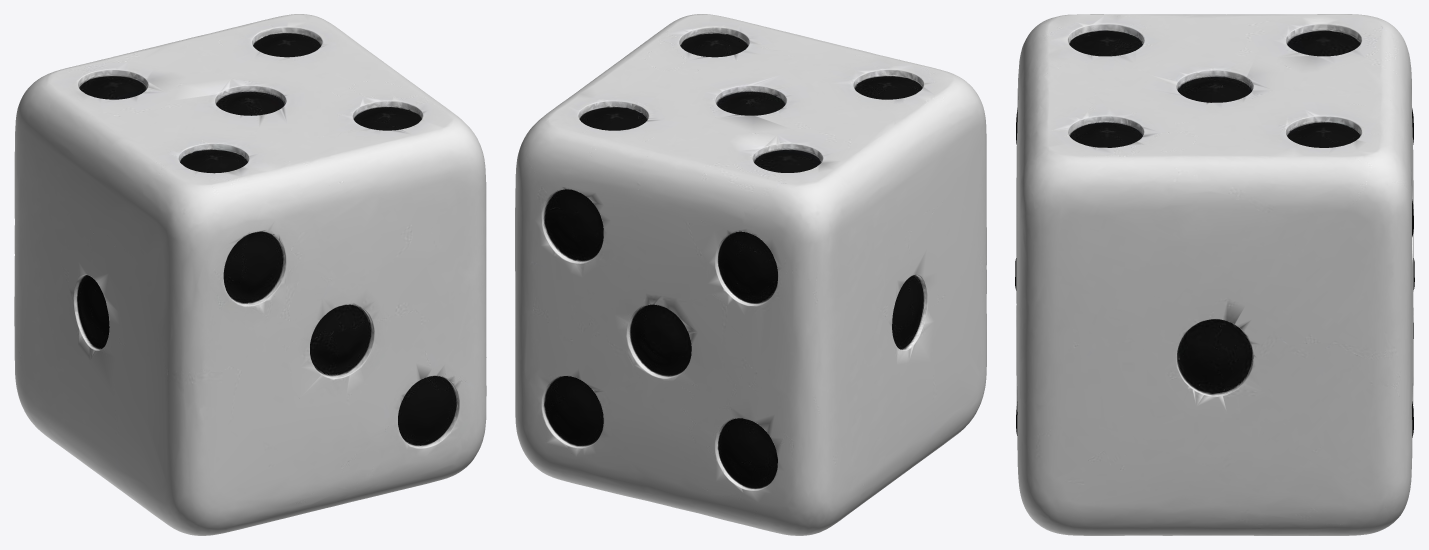
The model's file is white_die.glb.
3 views of the same model, side by side, from view 1: azimuth 30°, elevation 25°; view 2: azimuth 150°, elevation 25°; view 3: azimuth 270°, elevation 25° (orthographic). The views are drawn at different scales.
Bounding box in the file's own units: 1.82 × 1.91 × 1.82.
1 material, 1 textured.
